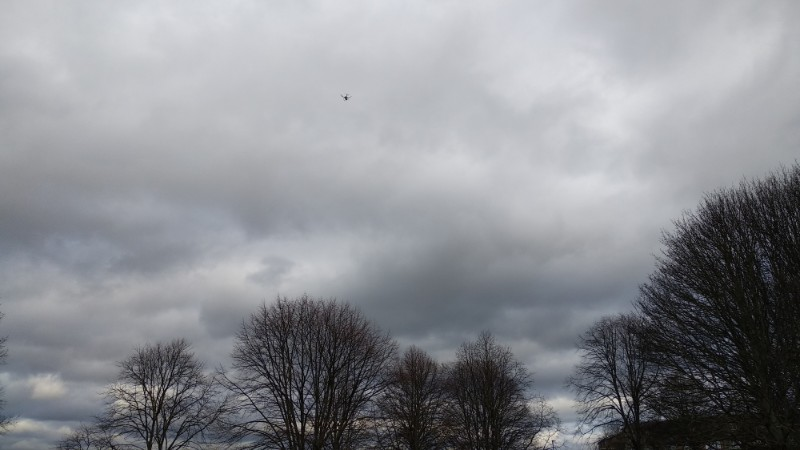drone: (340, 93, 350, 100)
